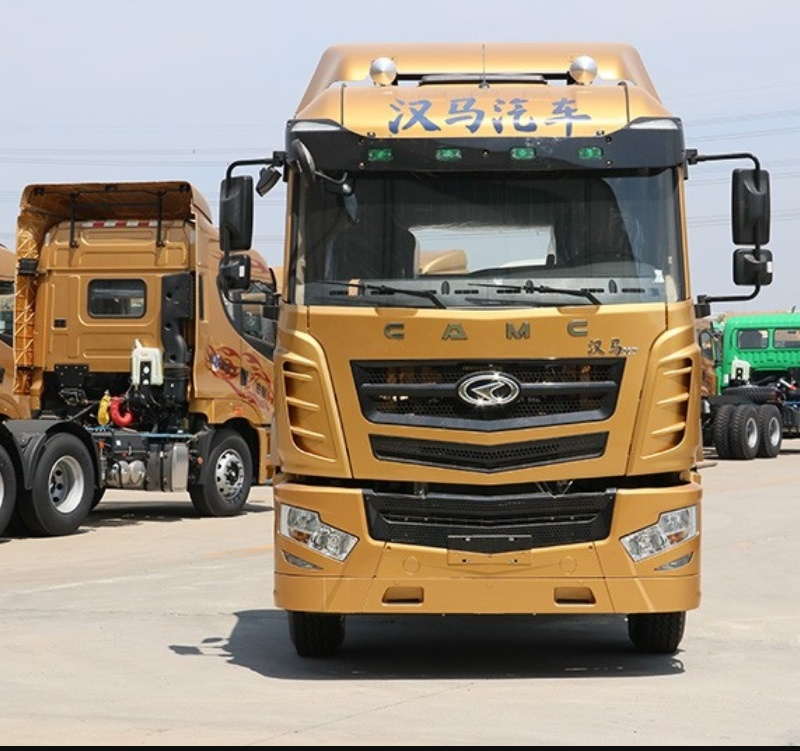heavy truck: (229, 28, 734, 684)
